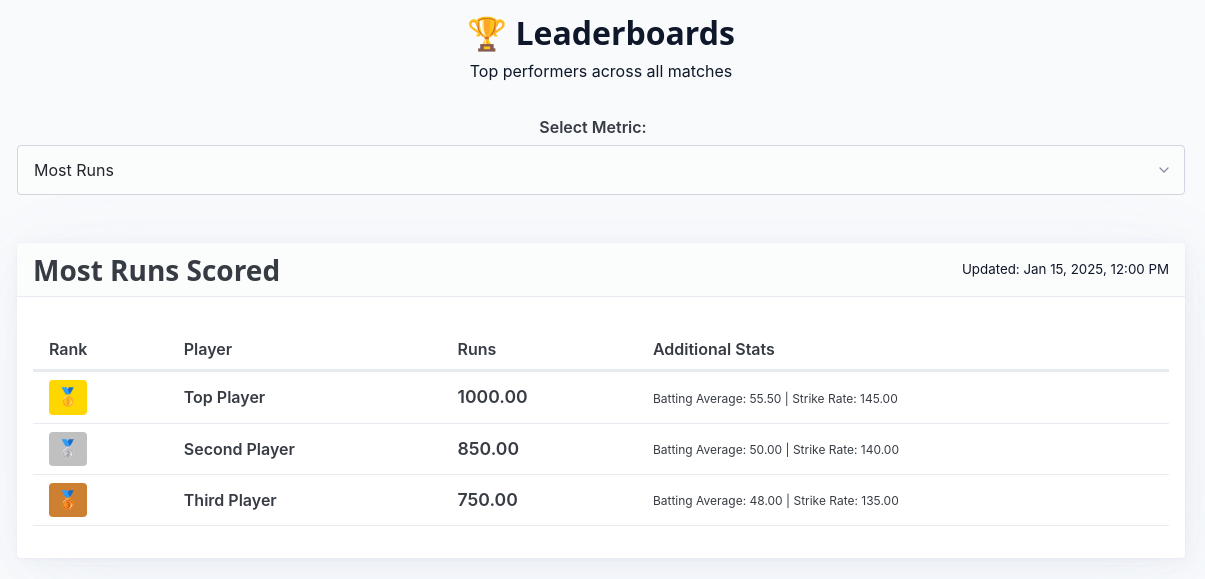
Test: LeaderboardView › changes leaderboard when metric is changed
Note: Change the select value
Select "Most Wickets" in the dropdown labelled "Select Metric:": (601, 170) [17,145,1185,195]
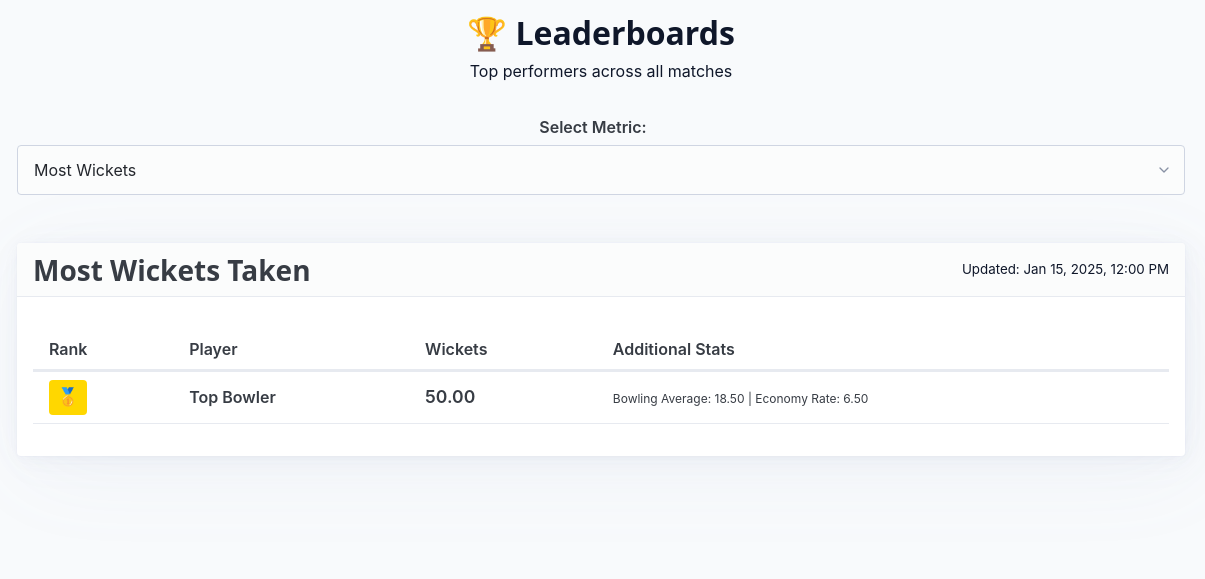
Check: the text "Top Bowler" is shown, box [189,388,276,408]
